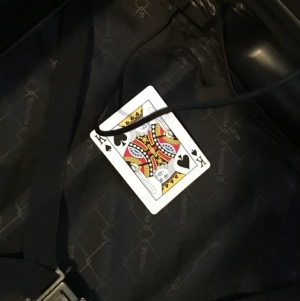card: (89, 85, 211, 216)
